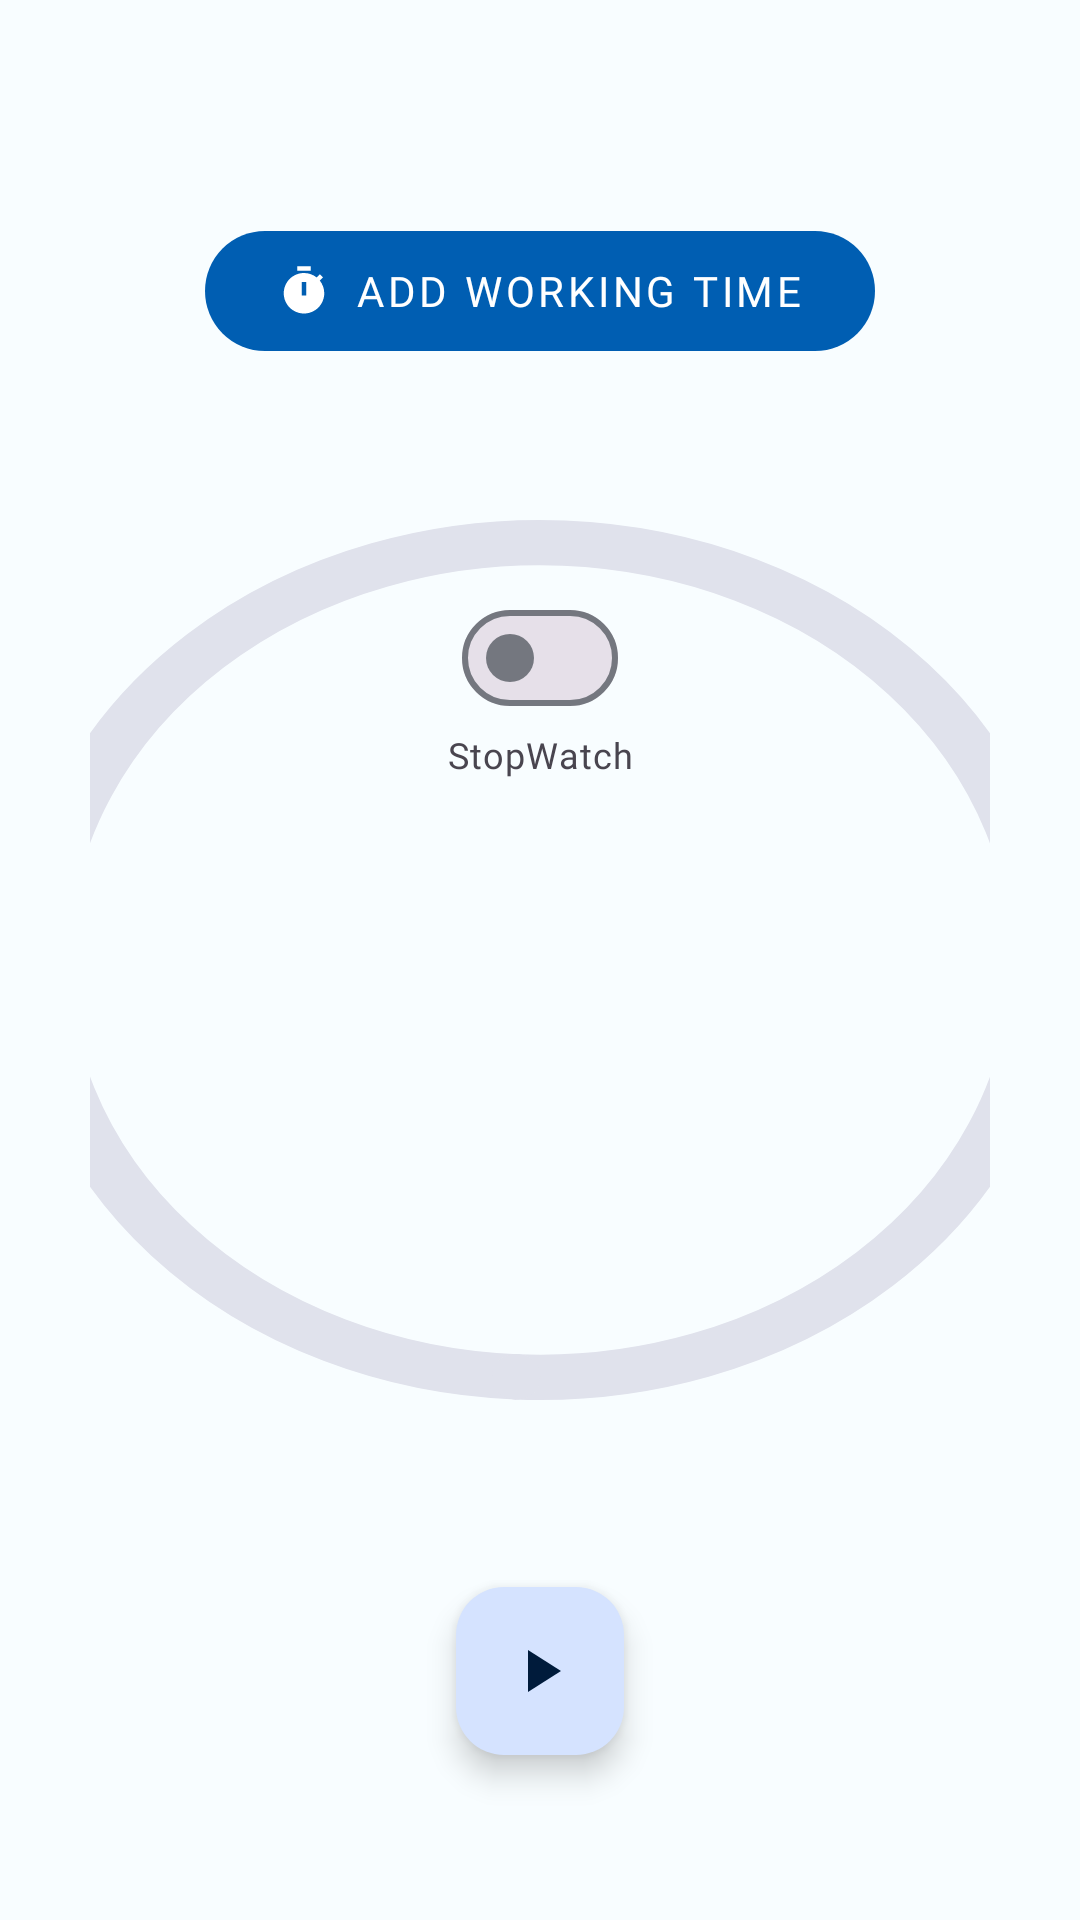

Icon click points for this 1080w x 1920h phone screenshot, format (x=x, y=y):
launch or pause chronometer/timer: (x=544, y=1671)
